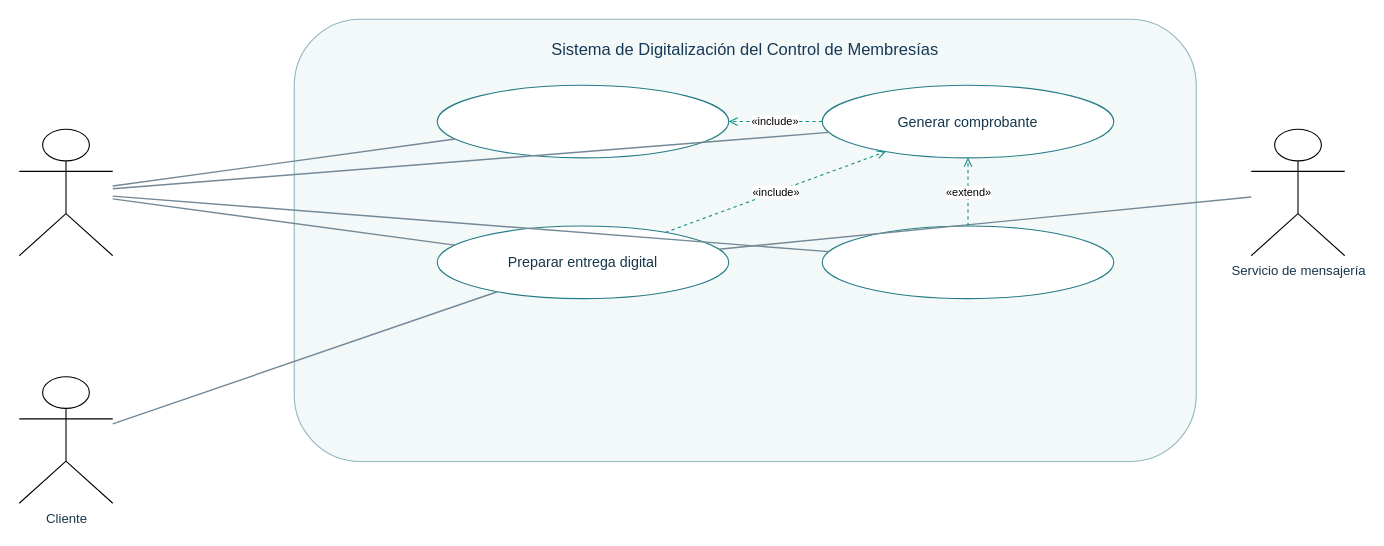
The diagram is 1384 pixels wide and 546 high, and some of its shapes have lost their labels. Here are the shapes that lost their labels. From the top down, the box of each, then its label:
(436, 84, 729, 158): Confirmar pago
(18, 128, 113, 256): Recepcionista
(821, 225, 1114, 299): Imprimir opcionalmente
